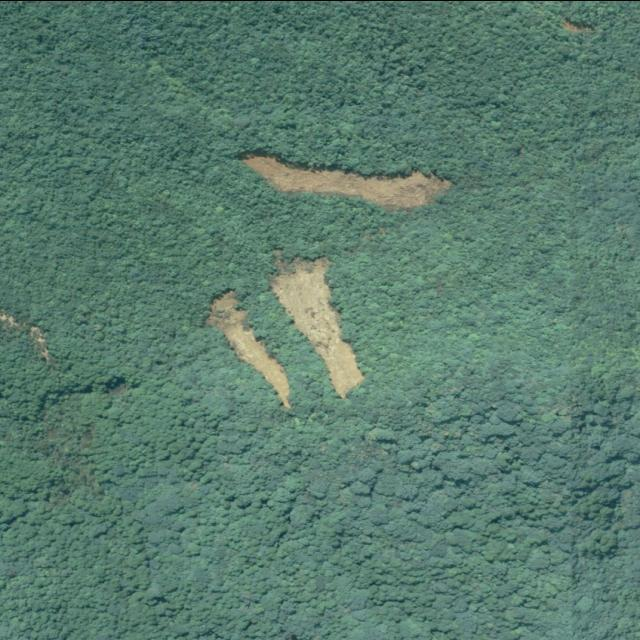landslide: (271, 256, 365, 397), (242, 152, 451, 209), (206, 290, 289, 407)
